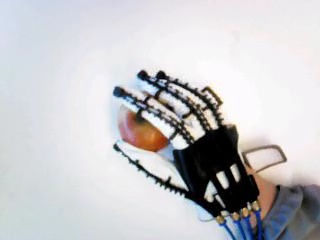apple: (115, 90, 177, 152)
hand: (113, 71, 259, 221)
